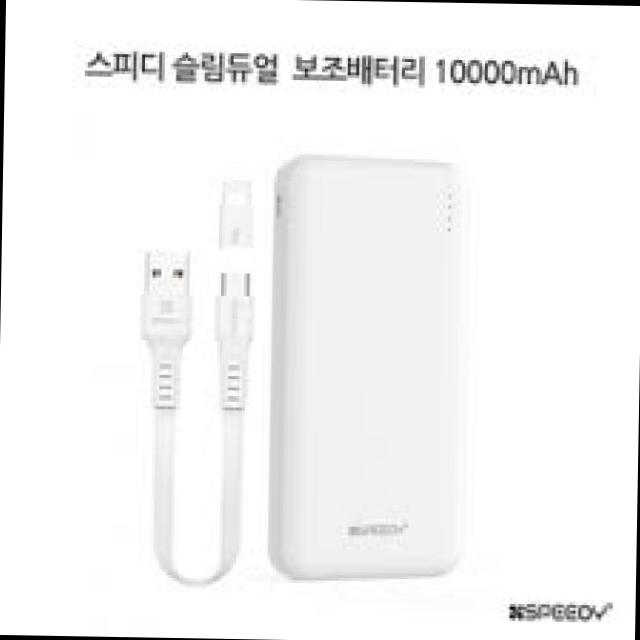portable-charger: (260, 148, 466, 582)
